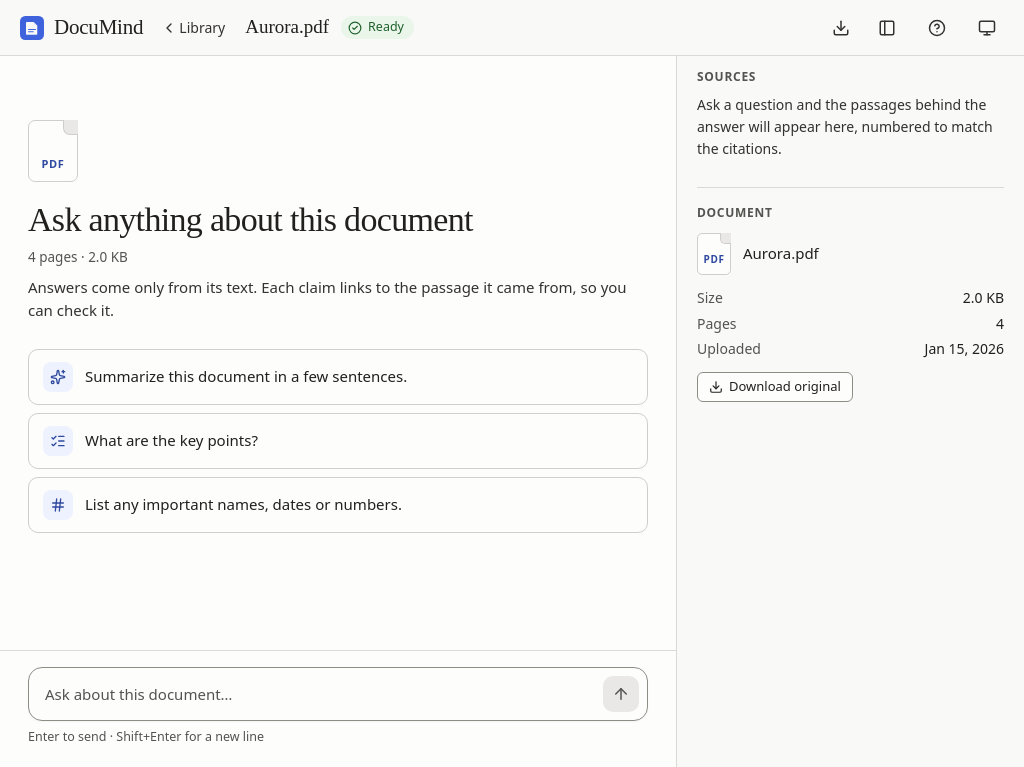
Test: WorkspacePage › collapses long passages behind Show more
The image size is (1024, 767).
Type "q" into the text box named "ask a question".
click(320, 694); type("q")  # box [45,677,595,712]
Then press Enter
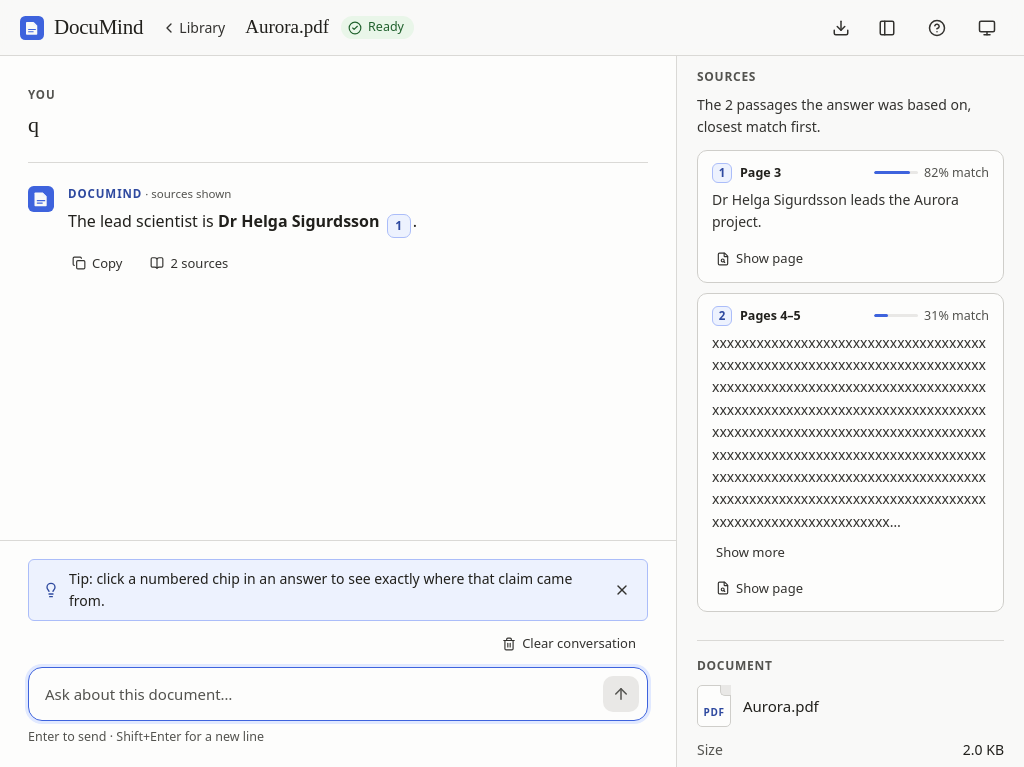
Now the text "The lead scientist is Dr Helga Sigurdsson 1 ." is shown, box [68,210,417,238]
Click the button "Show more".
click(750, 552)  # box [704,537,797,567]
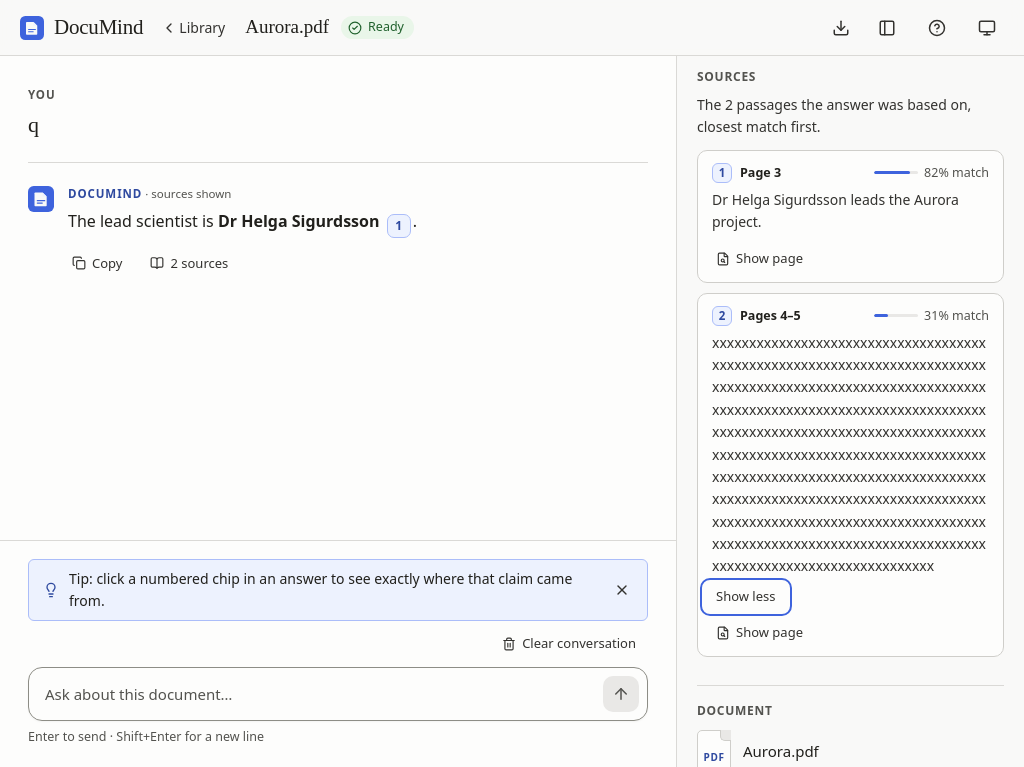
Now the button "Show less" is expanded, box [704,582,788,612]
